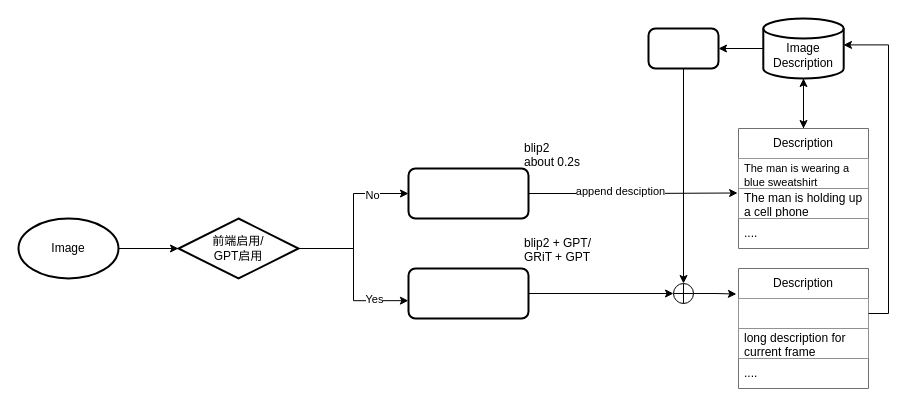
Image size: 914x406. Some labels were removed from this diagram. Each missing label, with the centre of its shape:
"Fast Describer" belongs at pixel 468 193.
"Full Describer" belongs at pixel 468 293.
"Summary" belongs at pixel 683 48.
"summary of prior" belongs at pixel 803 313.
